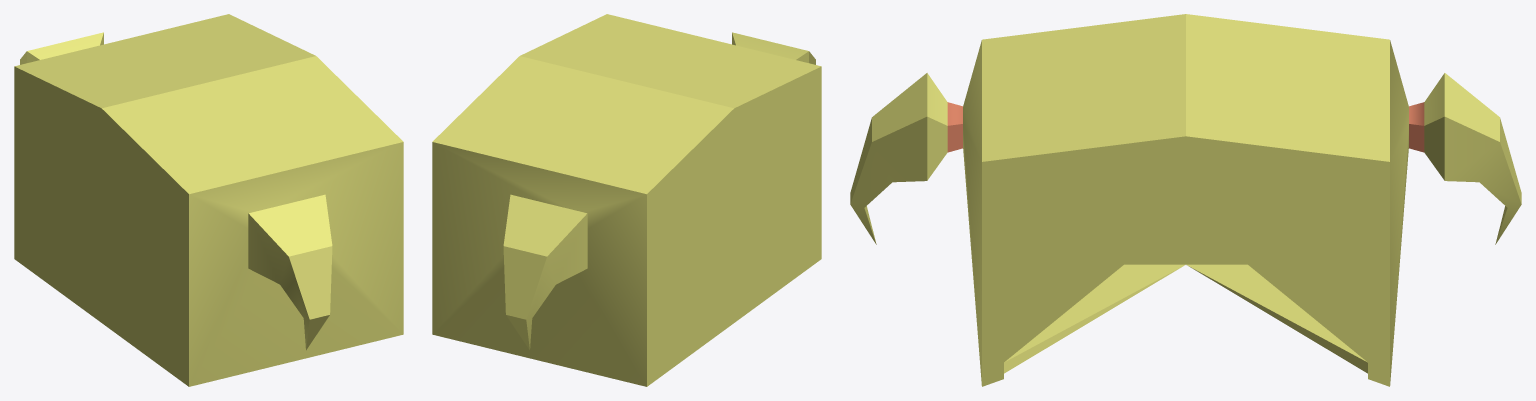
The model's file is SteveWig_v4.fbx.
3 views of the same model, side by side, from view 1: azimuth 30°, elevation 25°; view 2: azimuth 150°, elevation 25°; view 3: azimuth 270°, elevation 25° (orthographic). The views are drawn at different scales.
Visible parts, largest first — view 1: pCube5; view 2: pCube5; view 3: pCube5.
Boxes of the visible parts, bbox=[...] form: pCube5: bbox=[14, 14, 403, 386]; pCube5: bbox=[432, 14, 821, 386]; pCube5: bbox=[850, 14, 1521, 386].
Size of the model in its own units: 0.7735 by 0.7392 by 1.79.
